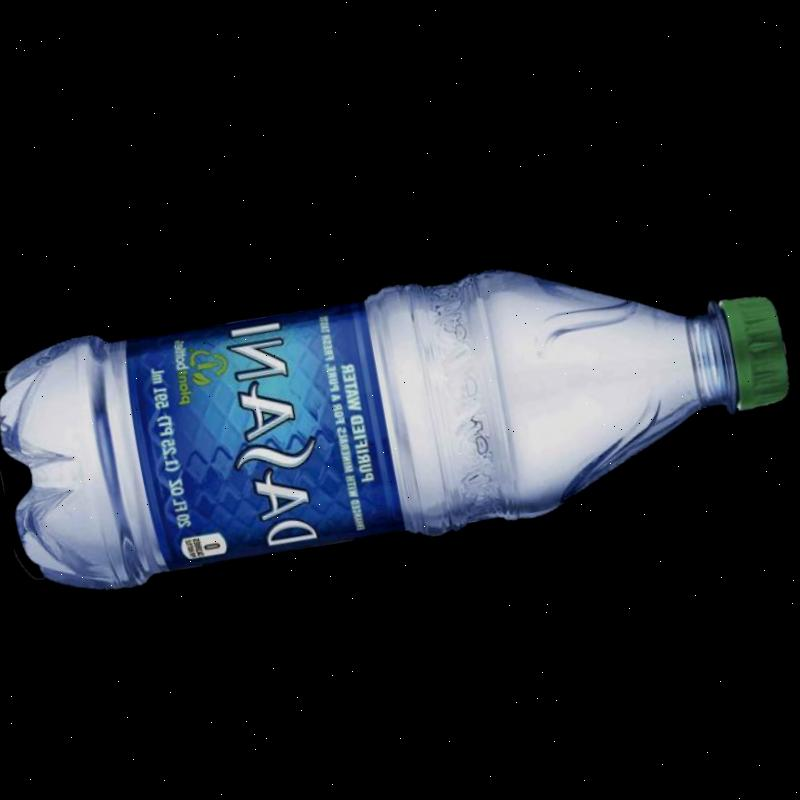botella: (0, 196, 798, 627)
